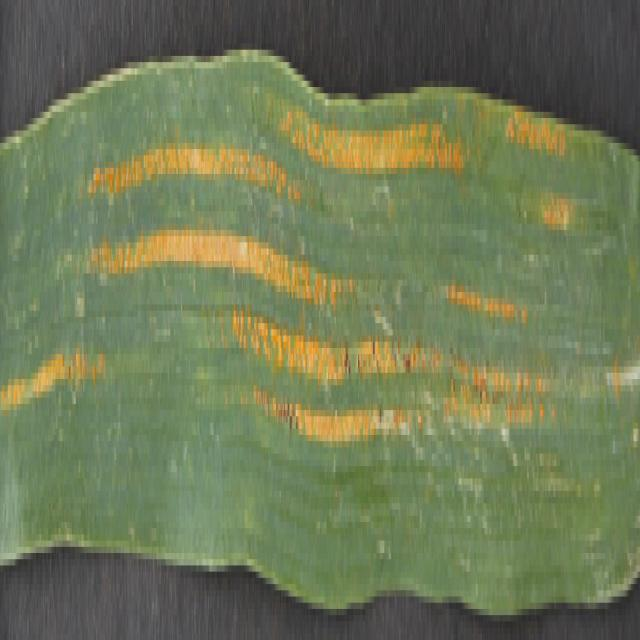leaf rust: (1, 31, 575, 466)
